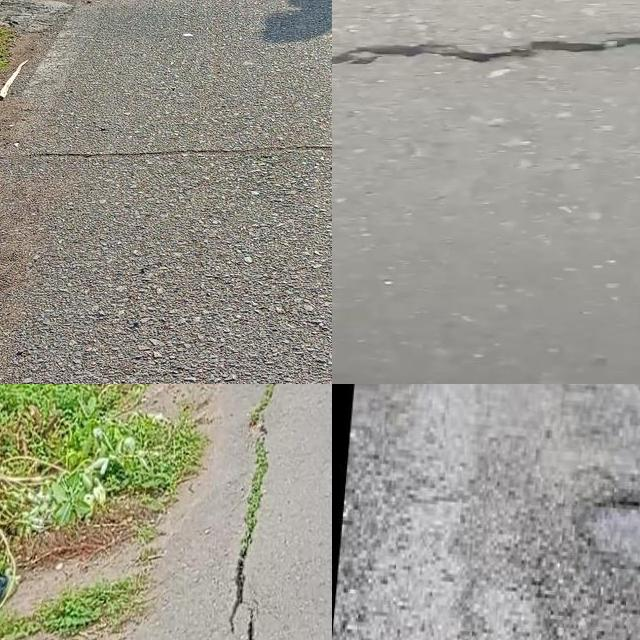Lubang: (580, 500, 640, 557)
Melintang: (332, 6, 640, 88), (0, 132, 332, 176)
Memanjang: (215, 384, 288, 640)
